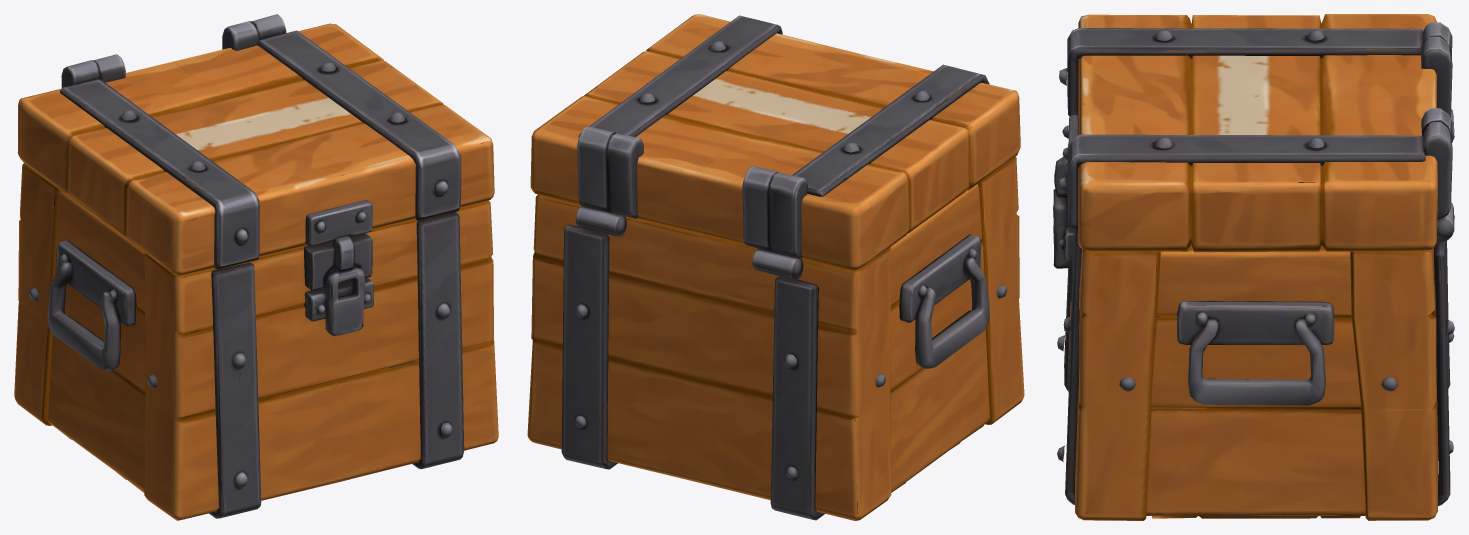
File: tier-1-small.glb
3 views of the same model, side by side, from view 1: azimuth 30°, elevation 25°; view 2: azimuth 150°, elevation 25°; view 3: azimuth 270°, elevation 25° (orthographic). The views are drawn at different scales.
Visible parts, largest first — view 1: tier-1-small; view 2: tier-1-small; view 3: tier-1-small.
Boxes of the visible parts, x1=… form: tier-1-small: x1=14, y1=14, x2=498, y2=520; tier-1-small: x1=527, y1=14, x2=1024, y2=520; tier-1-small: x1=1053, y1=14, x2=1454, y2=520.
Size of the model in its own units: 0.8 by 0.7 by 0.7.
1 material, 1 textured.
